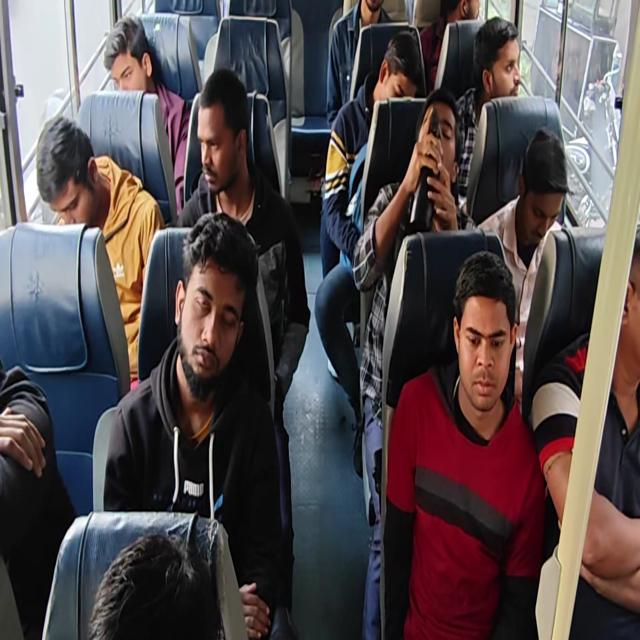person: (167, 205, 261, 409), (89, 524, 225, 640), (447, 236, 524, 426), (511, 118, 578, 273), (191, 67, 257, 208), (38, 115, 109, 232), (602, 211, 640, 398), (92, 10, 174, 96), (472, 15, 534, 112), (377, 26, 431, 111), (440, 0, 490, 29), (361, 0, 398, 18)
